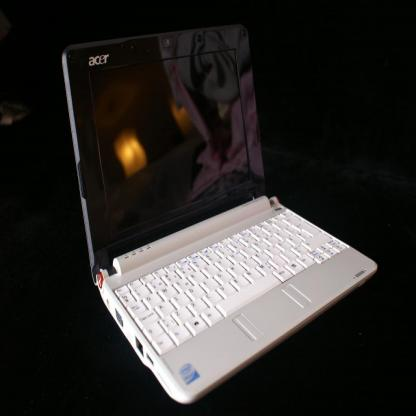board: (62, 16, 382, 400)
